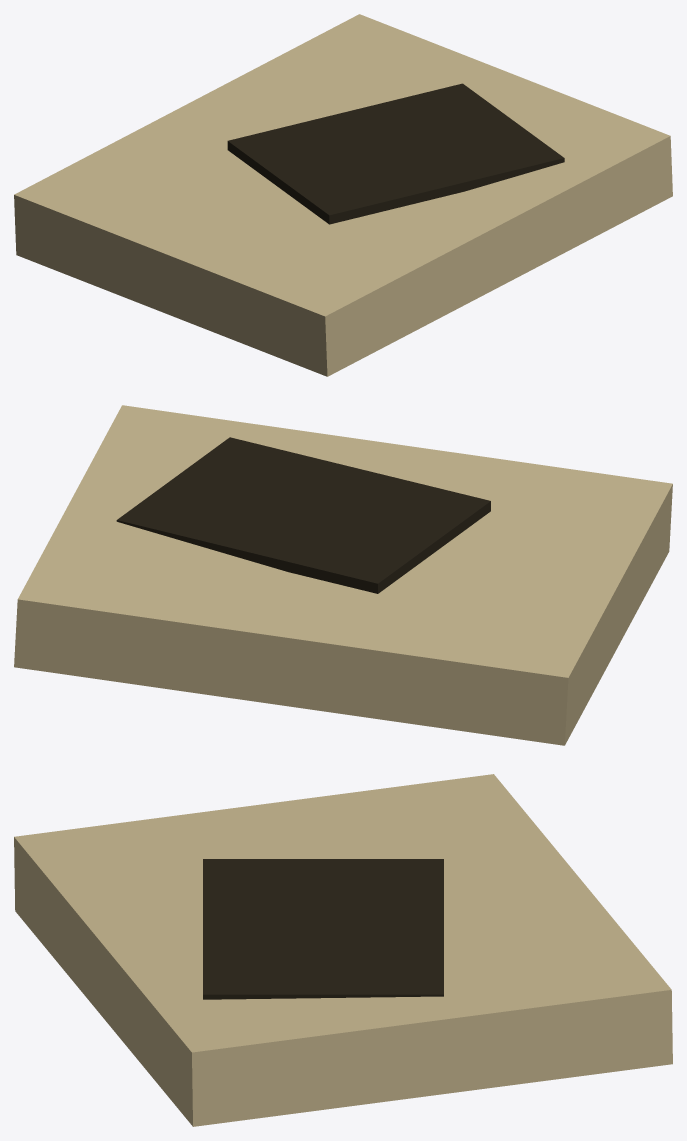
File: oil_rag.glb
The picture shows the model from 3 angles, top to bottom: view 1: azimuth 30°, elevation 25°; view 2: azimuth 150°, elevation 25°; view 3: azimuth 270°, elevation 25°; orthographic projection. The views are drawn at different scales.
Parts seen in each view (by area): view 1: rag_rag_cloth, stain_rag_oil; view 2: rag_rag_cloth, stain_rag_oil; view 3: rag_rag_cloth, stain_rag_oil.
Part boxes in pixels (bbox=[...]): rag_rag_cloth: bbox=[14, 14, 672, 376]; stain_rag_oil: bbox=[227, 83, 564, 224]; rag_rag_cloth: bbox=[14, 405, 672, 745]; stain_rag_oil: bbox=[116, 437, 490, 593]; rag_rag_cloth: bbox=[14, 774, 672, 1126]; stain_rag_oil: bbox=[203, 859, 443, 999].
Size of the model in its own units: 0.362 by 0.0549 by 0.328.
